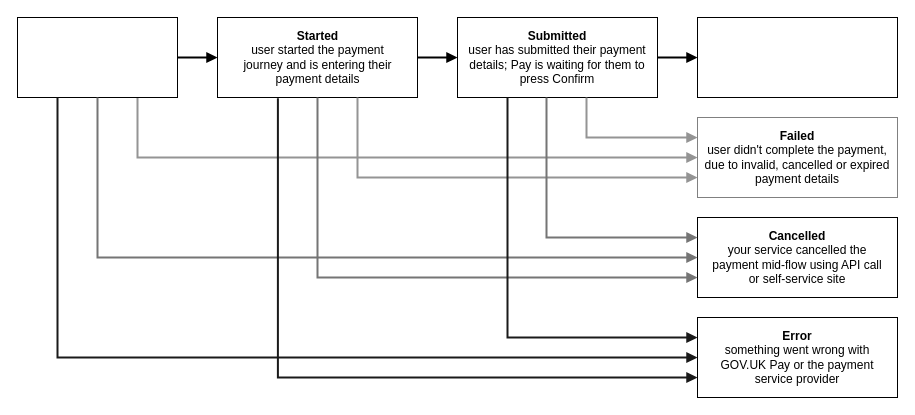
Image size: 915x415. Some labels were removed from this diagram. The shapes that lost their labels are listed below. From the top down, each one's centre as x and y in pixels, then its label:
At point (97, 57): "Created payment has been created via the API".
At point (797, 57): "Success user successfully completed the payment".
